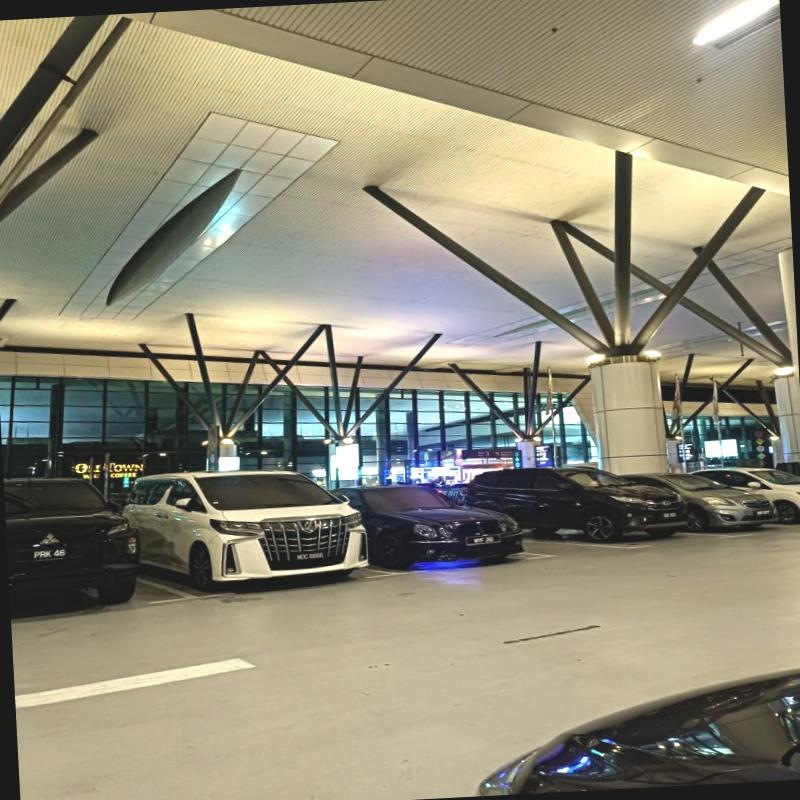license plate on a car: (22, 546, 73, 563), (293, 550, 330, 564), (468, 532, 504, 546), (656, 511, 688, 520)
